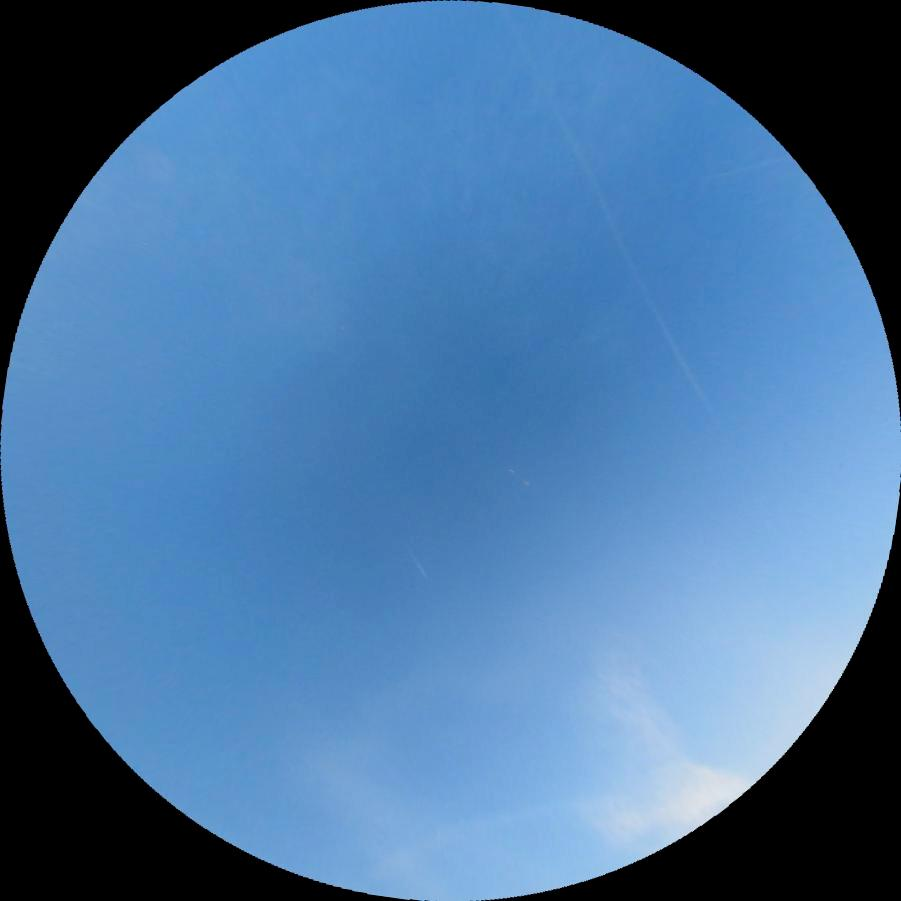contrail old: (499, 3, 721, 431), (708, 154, 794, 179)
contrail young: (412, 555, 428, 578)
